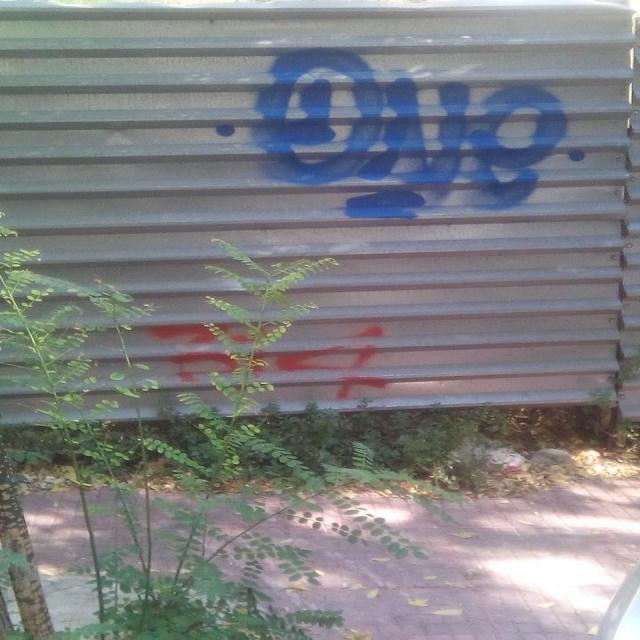nonspitting: (211, 42, 588, 226), (158, 324, 393, 398)
